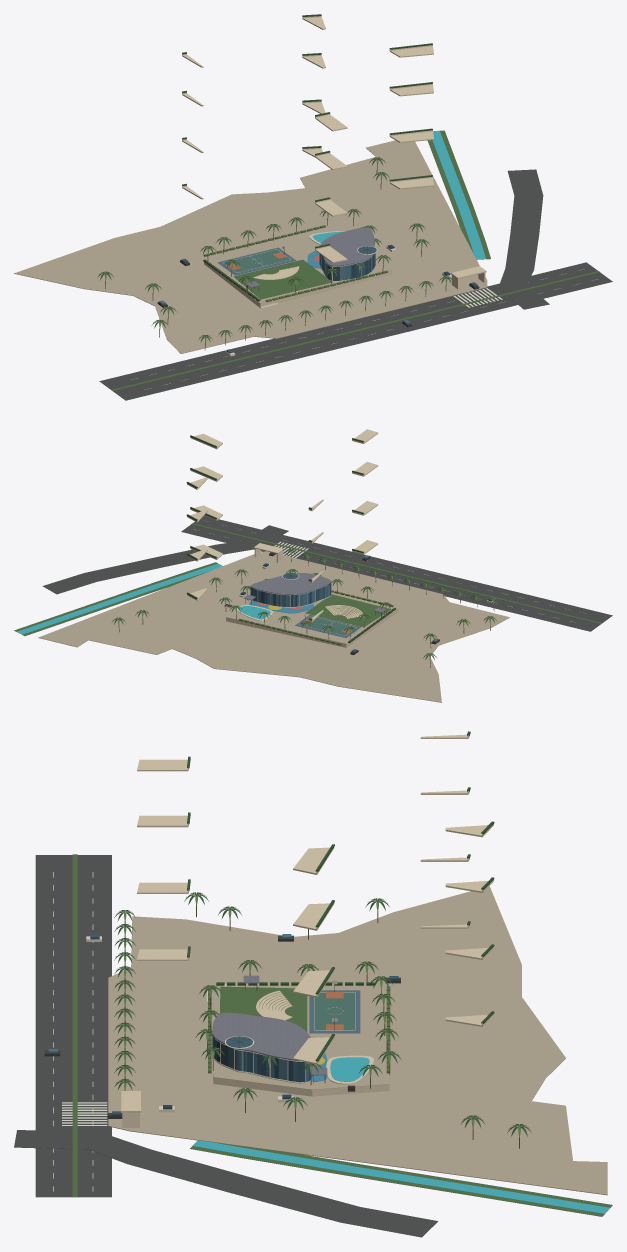
Rendered from balaji-site-pbr.glb.
The picture shows the model from 3 angles, top to bottom: view 1: azimuth 30°, elevation 25°; view 2: azimuth 150°, elevation 25°; view 3: azimuth 270°, elevation 25°; orthographic projection. The views are drawn at different scales.
Visible parts, largest first — view 1: paving, road, stone.005, lawn, leaf, water, leaf2, roof.005, trim.005, native-glass-clubglass, court, line; view 2: paving, road, stone.005, lawn, leaf, water, roof.005, native-glass-clubglass, leaf2, trim.005, court; view 3: paving, road, stone.005, lawn, leaf, water, roof.005, native-glass-clubglass, leaf2, trim.005, court, line (+1 smaller).
Boxes of the visible parts, left/top/right/bottom form: paving: left=14, top=140, right=487, bottom=353; road: left=99, top=169, right=612, bottom=400; stone.005: left=182, top=17, right=486, bottom=307; lawn: left=111, top=130, right=599, bottom=390; leaf: left=98, top=14, right=453, bottom=342; water: left=312, top=130, right=485, bottom=259; leaf2: left=99, top=158, right=452, bottom=342; roof.005: left=245, top=227, right=374, bottom=287; trim.005: left=182, top=16, right=485, bottom=356; native-glass-clubglass: left=159, top=241, right=477, bottom=353; court: left=223, top=249, right=290, bottom=272; line: left=132, top=249, right=598, bottom=389; paving: left=38, top=551, right=509, bottom=702; road: left=42, top=515, right=612, bottom=631; stone.005: left=187, top=429, right=398, bottom=647; lawn: left=14, top=523, right=601, bottom=635; leaf: left=112, top=435, right=499, bottom=660; water: left=17, top=563, right=270, bottom=634; roof.005: left=243, top=573, right=385, bottom=612; native-glass-clubglass: left=240, top=552, right=493, bottom=652; leaf2: left=115, top=549, right=498, bottom=661; trim.005: left=187, top=437, right=494, bottom=621; court: left=300, top=616, right=355, bottom=635; paving: left=108, top=886, right=607, bottom=1195; road: left=14, top=855, right=438, bottom=1237; stone.005: left=121, top=734, right=492, bottom=1112; lawn: left=72, top=854, right=612, bottom=1216; leaf: left=114, top=731, right=531, bottom=1136; water: left=192, top=1057, right=609, bottom=1213; roof.005: left=212, top=975, right=327, bottom=1075; native-glass-clubglass: left=48, top=934, right=398, bottom=1115; leaf2: left=115, top=893, right=529, bottom=1138; trim.005: left=86, top=735, right=493, bottom=1127; court: left=314, top=992, right=354, bottom=1030; line: left=53, top=872, right=355, bottom=1191.
Size of the model in its own units: 228 by 74.77 by 151.
Materials: 21 (3 with a texture image).
